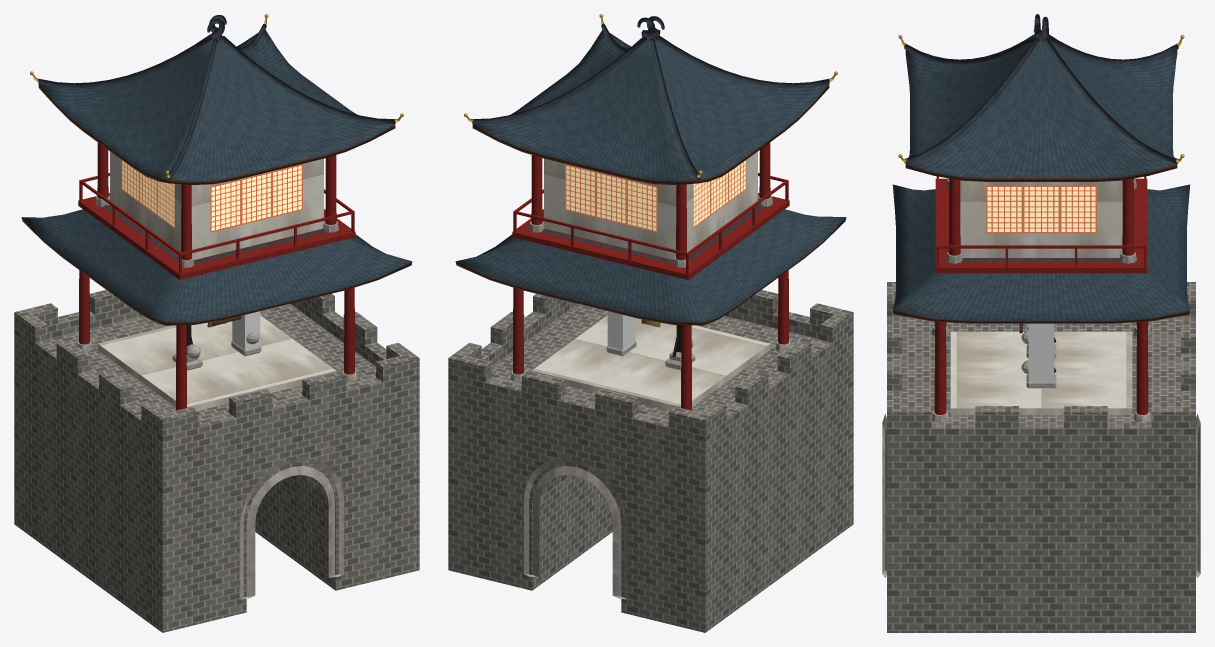
File: bell_tower.glb
The picture shows the model from 3 angles, left to right: view 1: azimuth 30°, elevation 25°; view 2: azimuth 150°, elevation 25°; view 3: azimuth 270°, elevation 25°; orthographic projection. The views are drawn at different scales.
Parts seen in each view (by area): view 1: BellTowerArchBlock, BellTowerCap, BellTowerEave0, BellTowerWalls, BellTowerBattlements, BellTowerWindows, BellTowerBalconies, BellTowerPillars, BellTowerArchRing, BellTowerCapRidges, BellPost-convcolonly.001, BellFrameStones (+1 smaller); view 2: BellTowerArchBlock, BellTowerCap, BellTowerEave0, BellTowerWalls, BellTowerBattlements, BellTowerWindows, BellTowerBalconies, BellTowerPillars, BellTowerArchRing, BellTowerCapRidges, BellPost-convcolonly.001, BellTowerPillarBases; view 3: BellTowerArchBlock, BellTowerCap, BellTowerEave0, BellTowerWalls, BellTowerBattlements, BellTowerBalconies, BellTowerWindows, BellTowerPillars, BellTowerCapRidges, BellPost-convcolonly.001, BellTowerArchRing, BellTowerPillarBases (+1 smaller).
Part boxes in pixels (box(x1,y1,x2,y2)): BellTowerArchBlock: box(14, 304, 419, 632); BellTowerCap: box(38, 30, 395, 184); BellTowerEave0: box(21, 204, 412, 325); BellTowerWalls: box(97, 151, 336, 410); BellTowerBattlements: box(14, 290, 419, 449); BellTowerWindows: box(121, 160, 302, 232); BellTowerBalconies: box(78, 173, 355, 279); BellTowerPillars: box(79, 142, 354, 410); BellTowerArchRing: box(239, 458, 344, 599); BellTowerCapRidges: box(38, 15, 395, 178); BellPost-convcolonly.001: box(232, 311, 260, 356); BellFrameStones: box(172, 331, 261, 370); BellTowerArchBlock: box(448, 304, 853, 632); BellTowerCap: box(472, 30, 829, 184); BellTowerEave0: box(455, 204, 846, 325); BellTowerWalls: box(531, 151, 770, 410); BellTowerBattlements: box(448, 290, 853, 449); BellTowerWindows: box(565, 160, 746, 232); BellTowerBalconies: box(512, 173, 789, 279); BellTowerPillars: box(513, 142, 788, 410); BellTowerArchRing: box(523, 458, 628, 599); BellTowerCapRidges: box(472, 16, 829, 178); BellPost-convcolonly.001: box(607, 311, 635, 356); BellTowerPillarBases: box(510, 195, 791, 381); BellTowerArchBlock: box(887, 317, 1195, 632); BellTowerCap: box(905, 37, 1177, 181); BellTowerEave0: box(892, 184, 1190, 323); BellTowerWalls: box(950, 180, 1132, 414); BellTowerBattlements: box(887, 282, 1195, 441); BellTowerBalconies: box(935, 176, 1147, 273); BellTowerWindows: box(986, 185, 1096, 233); BellTowerPillars: box(934, 178, 1148, 414); BellTowerCapRidges: box(904, 14, 1178, 163); BellPost-convcolonly.001: box(1028, 323, 1054, 388); BellTowerArchRing: box(882, 414, 1200, 577); BellTowerPillarBases: box(932, 179, 1150, 422).
Size of what is drawn, in the model's own units: 10.4 by 20.5 by 10.72.
16 materials, 16 textured.
